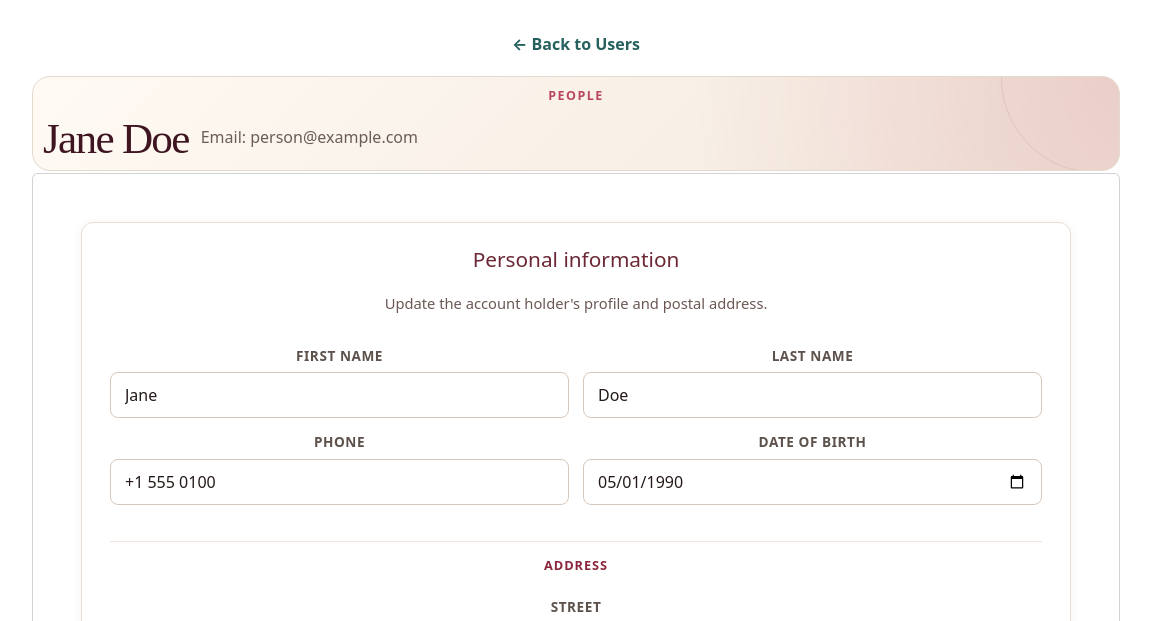
Test: UserDetail personal information › loads and saves another user's personal information
This screenshot has width=1152, height=621.
Check: the field labelled "First name" holds "Jane", box 110,372 -> 569,418
Replace the text in the field labelled "Phone" with "+1 555 0199" at (340, 482), box 110,459 -> 569,505
(page scrolled)
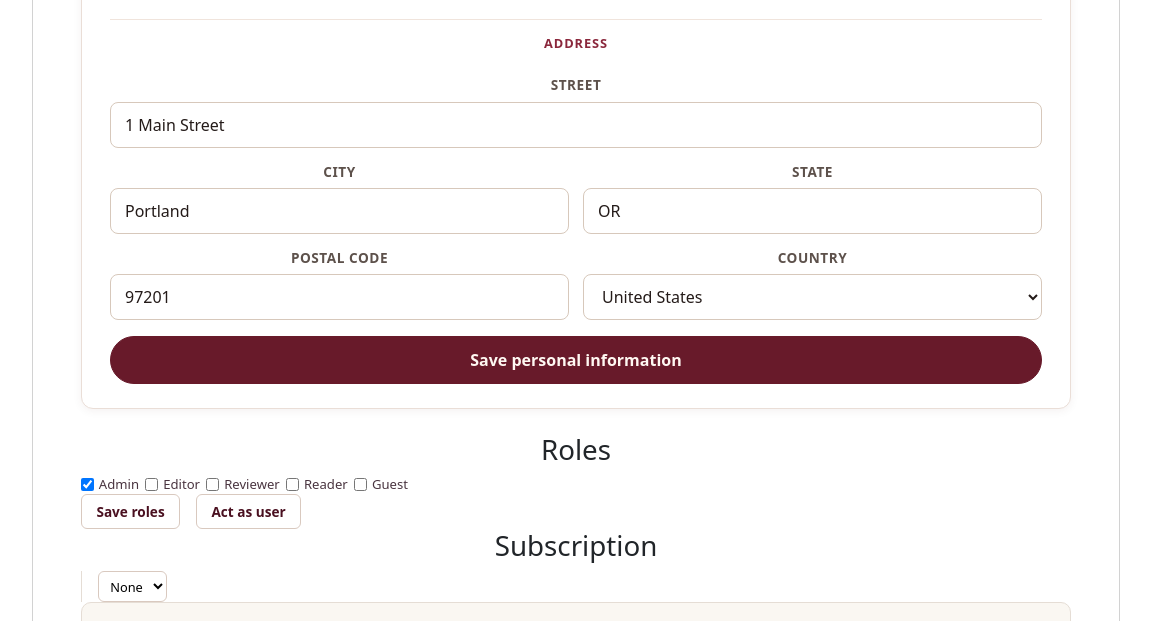
Click the button "Save personal information".
click(576, 360)  # box 110,336 -> 1042,384
(page scrolled)
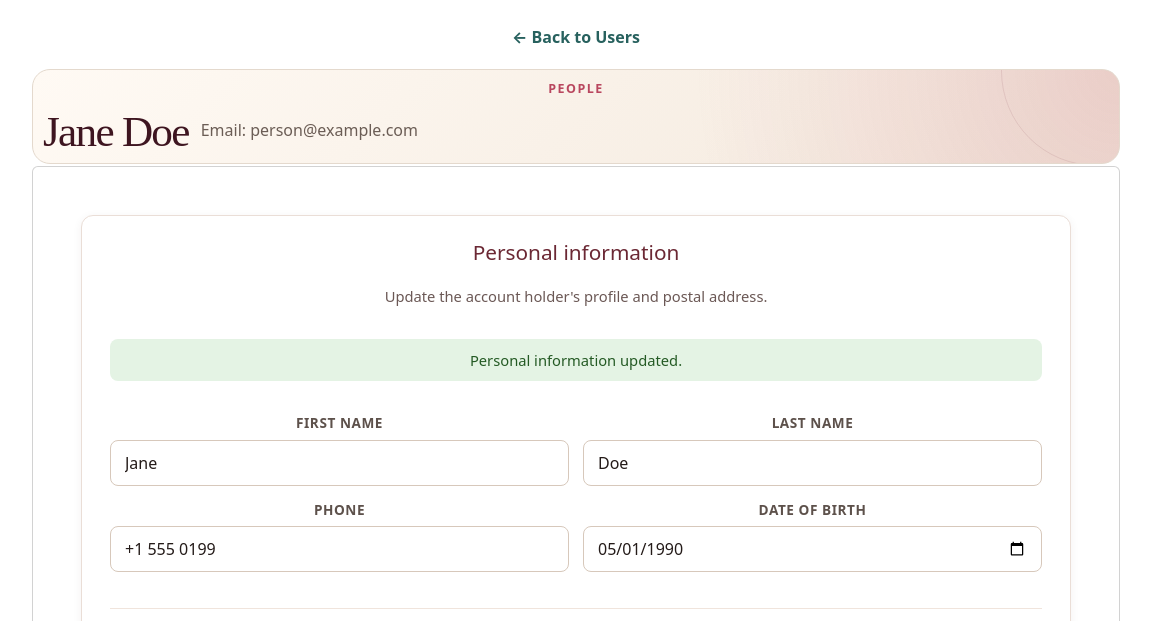
Check: the text "Personal information updated." is shown, box 110,339 -> 1042,381
